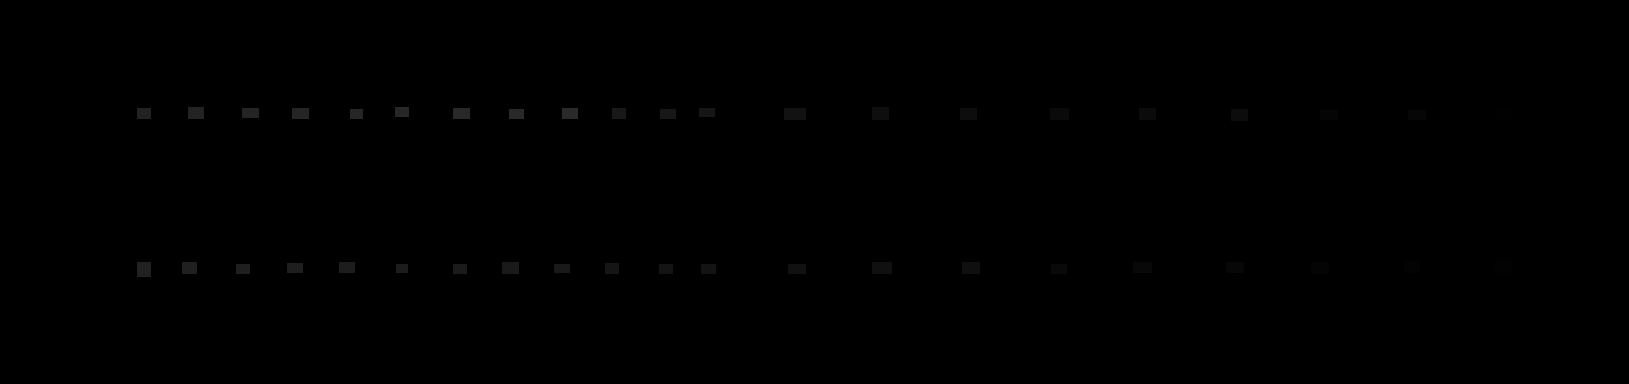light: (784, 108, 806, 120), (872, 262, 892, 274), (872, 107, 889, 120), (1050, 108, 1069, 120), (1311, 262, 1329, 274), (1139, 108, 1156, 120), (962, 262, 980, 274), (502, 262, 519, 274), (1133, 262, 1152, 273), (137, 262, 151, 277), (1495, 260, 1512, 273), (1404, 260, 1420, 273), (1231, 109, 1248, 121), (960, 108, 977, 120), (1226, 262, 1244, 273), (1408, 110, 1426, 120), (787, 264, 806, 274), (182, 262, 197, 274), (188, 107, 204, 119), (1496, 110, 1513, 121), (339, 262, 355, 273), (292, 108, 309, 119), (453, 108, 470, 119), (1320, 110, 1338, 120), (562, 108, 578, 119), (660, 109, 676, 119), (287, 263, 303, 273), (242, 108, 259, 118), (605, 263, 619, 274), (612, 108, 626, 119), (1051, 264, 1067, 274), (554, 264, 570, 273), (137, 108, 151, 119), (701, 264, 716, 274), (659, 264, 673, 274), (453, 264, 468, 274), (236, 264, 250, 274), (395, 107, 409, 117), (509, 109, 524, 119), (699, 108, 715, 117), (350, 109, 363, 119), (396, 264, 408, 273)
